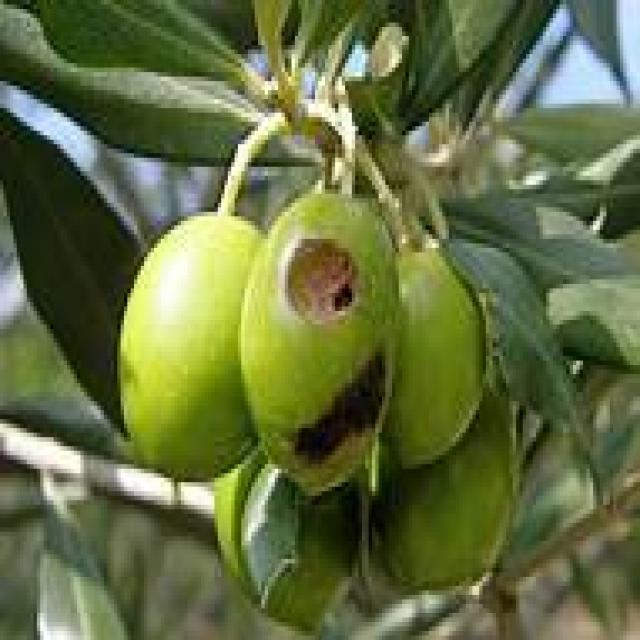Anthracnose: (242, 198, 398, 492)
